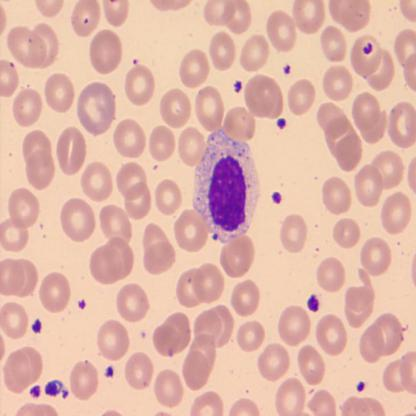Metamyelocyte: (190, 127, 262, 245)
